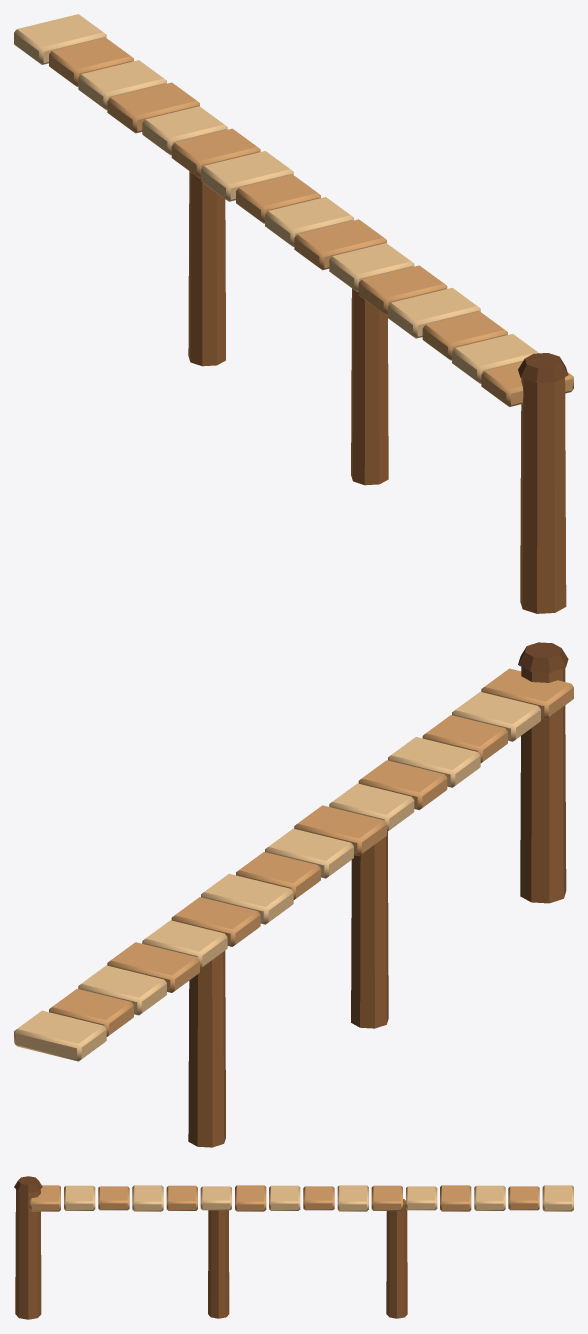
File: dock_end.fbx
The picture shows the model from 3 angles, top to bottom: view 1: azimuth 30°, elevation 25°; view 2: azimuth 150°, elevation 25°; view 3: azimuth 270°, elevation 25°; orthographic projection. The views are drawn at different scales.
Visible parts, largest first — view 1: dock_end; view 2: dock_end; view 3: dock_end.
Boxes of the visible parts, box(x1,y1,x2,y2) form: dock_end: box(14, 14, 573, 613); dock_end: box(14, 642, 573, 1147); dock_end: box(14, 1176, 573, 1319).
Size of the model in its own units: 0.18 by 0.62 by 2.35.
